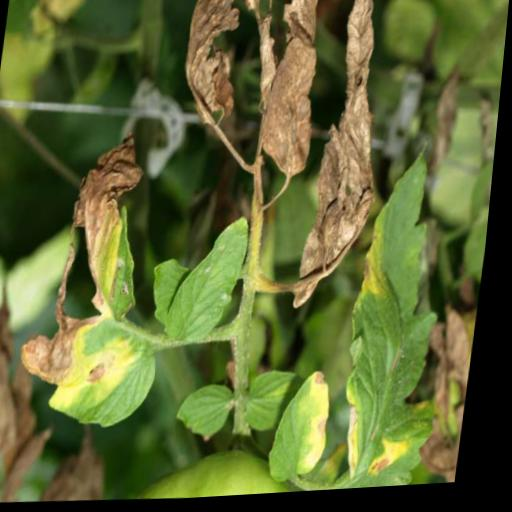Early Blight: (14, 129, 191, 449), (345, 144, 479, 482), (274, 371, 345, 489)
